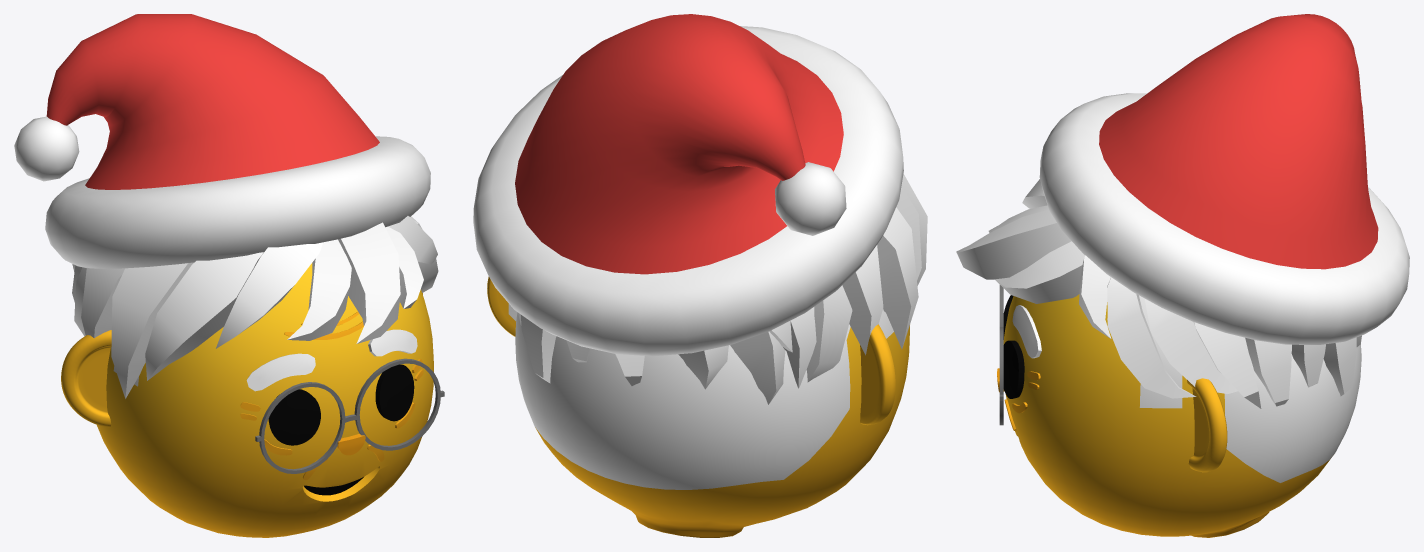
The model's file is mx_claus.glb.
3 views of the same model, side by side, from view 1: azimuth 30°, elevation 25°; view 2: azimuth 150°, elevation 25°; view 3: azimuth 270°, elevation 25° (orthographic). The views are drawn at different scales.
Visible parts, largest first — view 1: Circle.953, Roundcube.195, Cube.2306, Circle.945, Cylinder.173, Circle.951, Circle.947, Circle.949; view 2: Circle.953, Roundcube.195, Cube.2306, Cylinder.173; view 3: Circle.953, Roundcube.195, Cube.2306, Cylinder.173, Circle.945, Circle.947, Circle.951.
Part boxes in pixels (x1,y1,x2,y2): Circle.953: (14,14,430,268); Roundcube.195: (97,263,433,537); Cube.2306: (72,216,438,398); Circle.945: (268,364,414,445); Cylinder.173: (61,293,422,427); Circle.951: (255,358,444,473); Circle.947: (246,329,417,391); Circle.949: (240,359,423,480); Circle.953: (473,14,903,356); Roundcube.195: (515,309,909,537); Cube.2306: (506,173,927,404); Cylinder.173: (487,276,895,425); Circle.953: (1039,14,1409,344); Roundcube.195: (1003,294,1361,537); Cube.2306: (956,179,1361,408); Cylinder.173: (1187,378,1227,472); Circle.945: (1003,295,1024,398); Circle.947: (1012,305,1041,358); Circle.951: (999,285,1003,425).
Bounding box in the file's own units: 1.76 × 2.23 × 1.92.
1 material, 1 textured.
